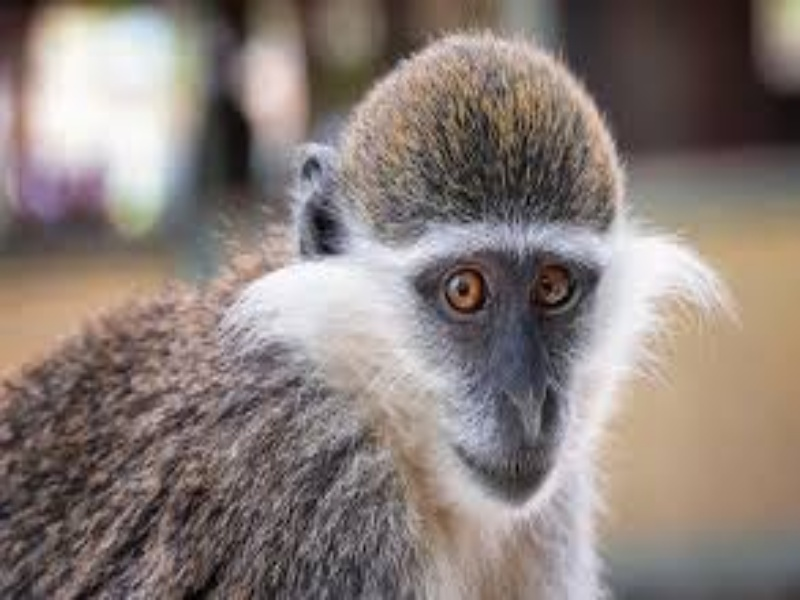monkey: (138, 33, 763, 586)
